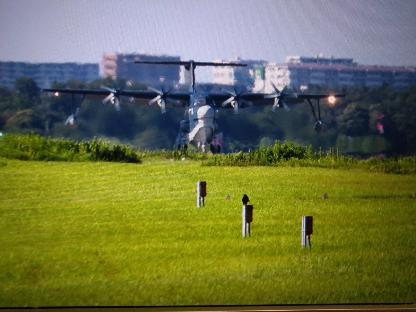Tu95: (43, 59, 346, 153)
